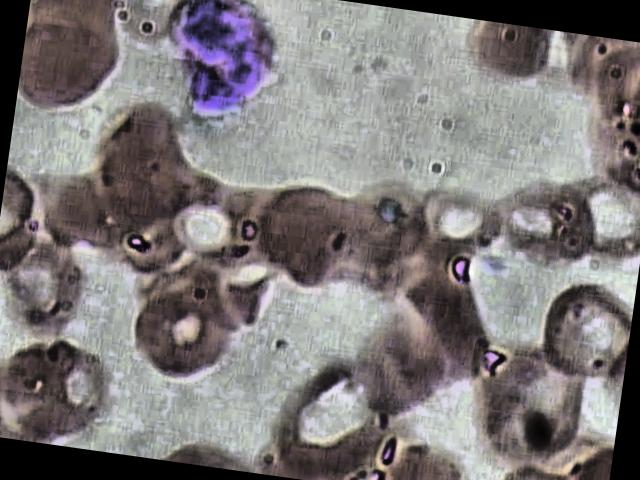RBC: (118, 279, 242, 400), (82, 95, 193, 228), (492, 172, 608, 290), (0, 330, 113, 450), (248, 180, 364, 296), (520, 276, 636, 392), (344, 308, 458, 425), (0, 231, 111, 348), (17, 8, 128, 122), (409, 180, 508, 274), (464, 19, 560, 96)
WBC: (153, 0, 304, 130)
